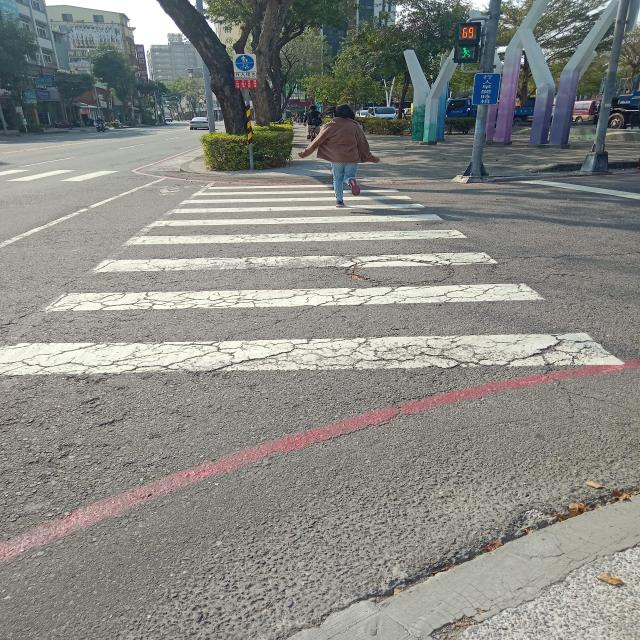person: (298, 104, 380, 208), (305, 105, 323, 140)
zebra crossing: (3, 167, 628, 377)
